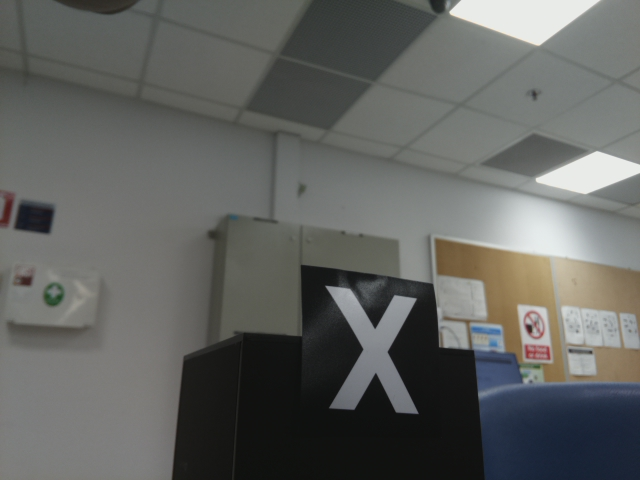x: (316, 279, 428, 420)
